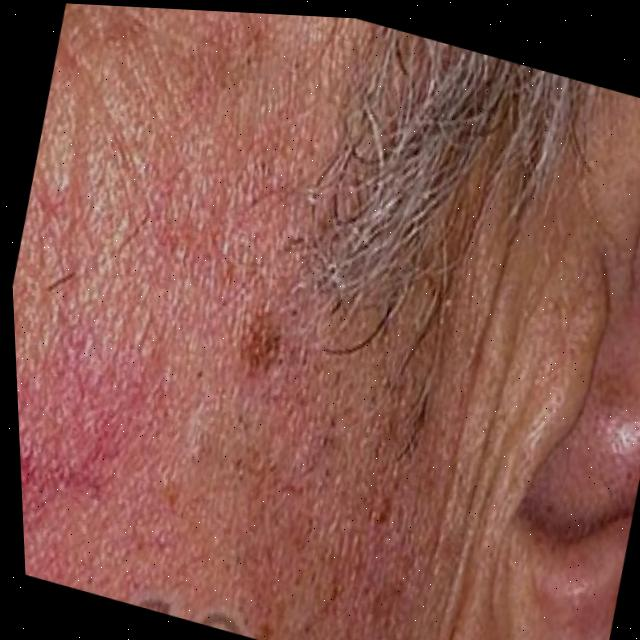Rosacea: (2, 37, 302, 570)
